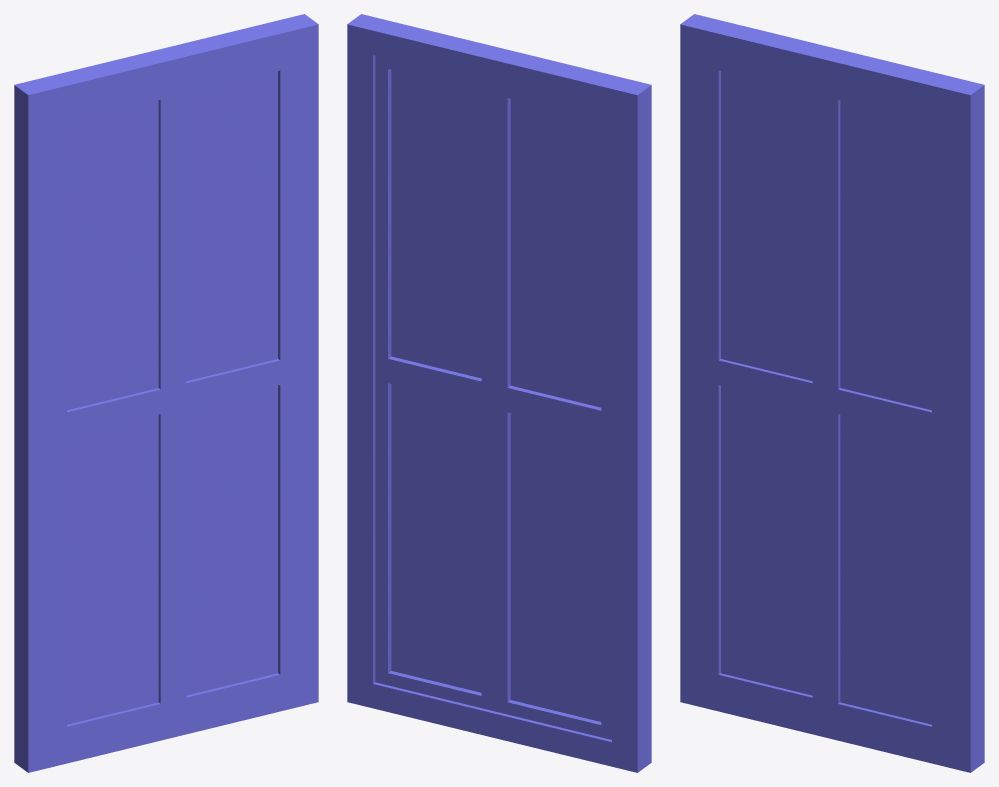
Rendered from Porta.fbx.
3 renders of one model, left to right at view 1: azimuth 30°, elevation 25°; view 2: azimuth 150°, elevation 25°; view 3: azimuth 330°, elevation 25°, orthographic.
Parts seen in each view (by area): view 1: Door_Obj; view 2: Door_Obj; view 3: Door_Obj.
Boxes of the visible parts, x1,y1,x2,y2 form: Door_Obj: (14, 14, 318, 772); Door_Obj: (347, 14, 651, 772); Door_Obj: (680, 14, 984, 772).
Bounding box in the file's own units: 1.04 × 2.33 × 0.0883.
